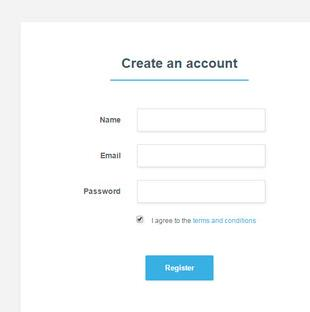button: (143, 253, 215, 283)
checkbox: (135, 214, 144, 223)
checkbox_with_label: (132, 211, 255, 225)
field: (133, 178, 267, 205), (134, 106, 267, 133), (134, 142, 266, 169)
field_with_label: (84, 176, 268, 207), (100, 140, 268, 171), (99, 104, 269, 134)
